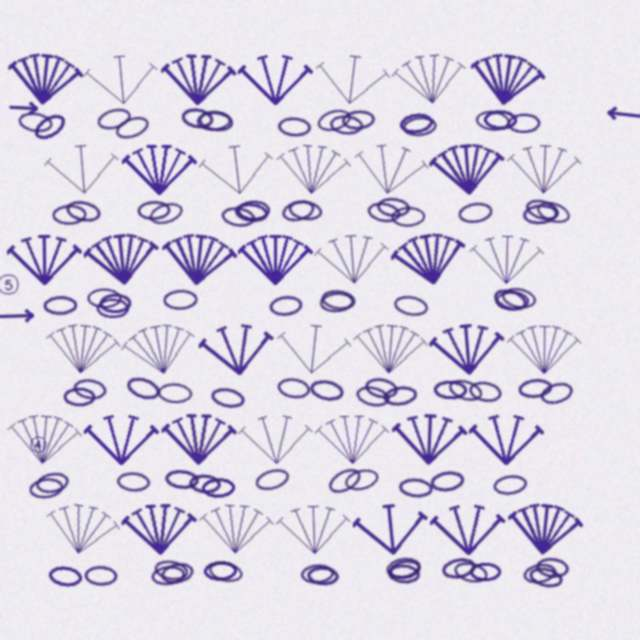chain: (30, 109, 69, 144), (325, 464, 364, 497), (113, 112, 152, 143), (124, 373, 162, 403), (446, 376, 485, 405), (253, 465, 292, 494), (147, 199, 185, 228), (534, 198, 572, 227), (491, 285, 529, 314), (95, 105, 133, 133), (315, 106, 353, 134), (523, 196, 561, 224), (538, 379, 575, 407), (354, 383, 391, 410), (343, 466, 380, 493), (452, 559, 489, 586), (527, 564, 564, 591), (64, 198, 102, 224), (392, 293, 430, 319), (500, 285, 538, 311), (280, 197, 316, 224), (209, 385, 246, 411), (308, 377, 345, 403), (363, 375, 400, 401), (207, 559, 244, 585), (440, 555, 477, 581), (159, 560, 195, 586), (17, 110, 54, 135), (457, 200, 494, 225), (34, 470, 71, 495), (385, 555, 422, 580), (287, 198, 323, 223), (366, 200, 402, 225), (467, 379, 503, 404), (153, 558, 189, 583), (387, 557, 423, 582), (522, 561, 558, 586), (197, 109, 234, 133), (320, 288, 357, 312), (398, 111, 434, 135), (220, 205, 256, 229), (72, 377, 108, 401), (382, 384, 418, 408), (28, 476, 64, 500), (429, 469, 465, 493), (492, 473, 528, 497), (47, 564, 83, 588), (180, 106, 215, 130), (276, 376, 311, 400), (233, 201, 269, 224), (268, 294, 304, 317), (517, 377, 553, 400), (150, 564, 186, 587), (402, 115, 437, 138), (475, 109, 510, 132), (376, 196, 411, 219), (164, 468, 199, 491), (535, 556, 570, 579), (522, 203, 558, 225), (157, 382, 193, 404), (277, 116, 312, 138), (341, 109, 376, 131), (329, 114, 364, 136), (319, 291, 354, 313), (116, 471, 151, 493), (398, 477, 433, 499), (300, 563, 335, 585), (196, 110, 232, 131), (188, 473, 222, 495), (306, 565, 340, 587), (387, 563, 421, 585), (52, 204, 87, 225), (163, 289, 198, 310), (483, 109, 517, 130), (137, 200, 171, 221), (391, 206, 425, 227), (43, 295, 77, 316), (201, 477, 235, 498), (84, 565, 118, 586), (203, 560, 237, 581), (87, 288, 122, 308), (507, 113, 541, 133), (495, 291, 529, 311), (433, 380, 467, 400), (237, 200, 270, 220), (99, 293, 132, 313), (96, 298, 129, 318), (63, 387, 96, 407), (469, 562, 502, 582)
fan: (118, 315, 201, 383), (41, 495, 124, 563), (388, 225, 471, 292), (466, 46, 548, 112), (350, 136, 432, 202), (312, 47, 393, 111), (197, 137, 277, 201), (159, 227, 239, 291), (197, 317, 277, 381), (5, 47, 85, 110), (390, 47, 470, 110), (82, 227, 162, 290), (43, 317, 123, 380), (274, 317, 354, 380), (351, 497, 431, 560), (505, 497, 585, 560), (82, 48, 161, 110), (274, 138, 353, 200), (5, 408, 84, 470), (43, 138, 122, 199), (428, 138, 507, 199), (313, 228, 392, 289), (351, 318, 430, 379), (428, 318, 507, 379), (506, 139, 583, 198), (391, 409, 468, 468), (121, 499, 198, 558), (198, 499, 275, 558), (160, 50, 237, 108), (469, 230, 545, 288), (238, 410, 314, 468), (276, 500, 352, 558), (430, 500, 506, 558), (161, 410, 237, 467), (238, 51, 313, 107), (122, 141, 197, 197), (7, 231, 82, 287), (238, 231, 313, 287), (507, 321, 582, 377), (84, 411, 159, 467), (315, 411, 390, 467), (469, 411, 544, 467)
noise: (604, 104, 640, 124), (0, 308, 36, 324), (0, 272, 21, 297), (28, 434, 49, 455), (8, 101, 40, 114)
